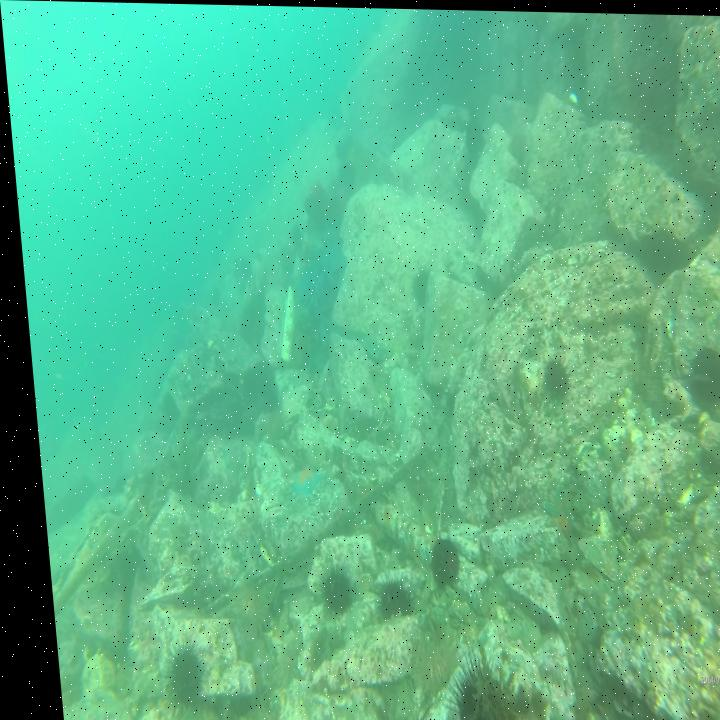echinus: (432, 651, 497, 720), (149, 640, 196, 708), (309, 562, 346, 618), (684, 338, 720, 393), (418, 532, 452, 588), (366, 576, 405, 624), (532, 355, 566, 404), (405, 264, 429, 307), (461, 119, 484, 158)
starfish: (279, 460, 319, 505), (534, 486, 567, 538)
